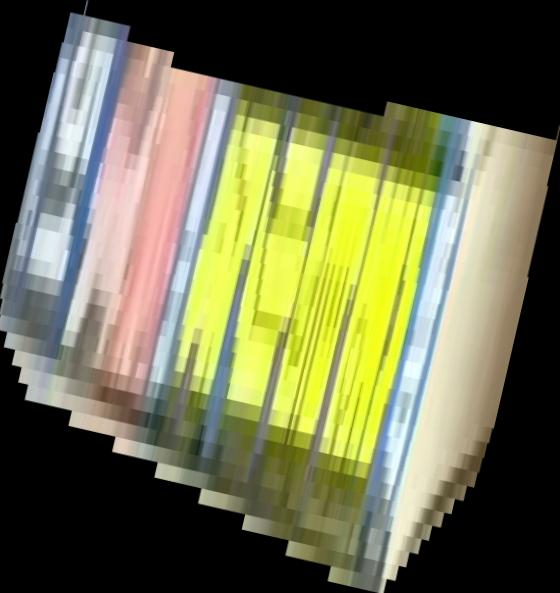flat: (1, 1, 560, 593)
